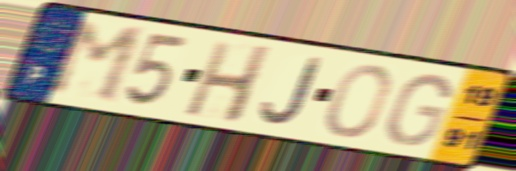5: (123, 29, 190, 108)
G: (383, 72, 454, 148)
H: (181, 39, 277, 127)
J: (259, 55, 325, 127)
M: (44, 19, 148, 107)
O: (324, 62, 394, 139)
